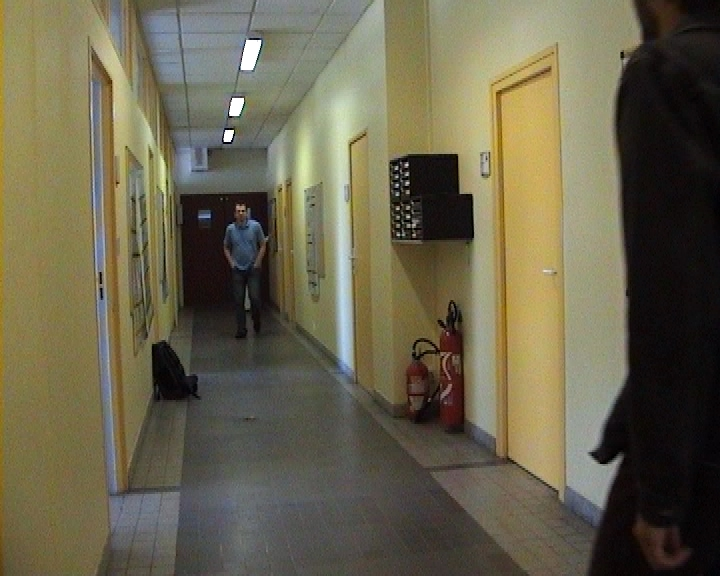leave bag unattended: (129, 320, 208, 410)
